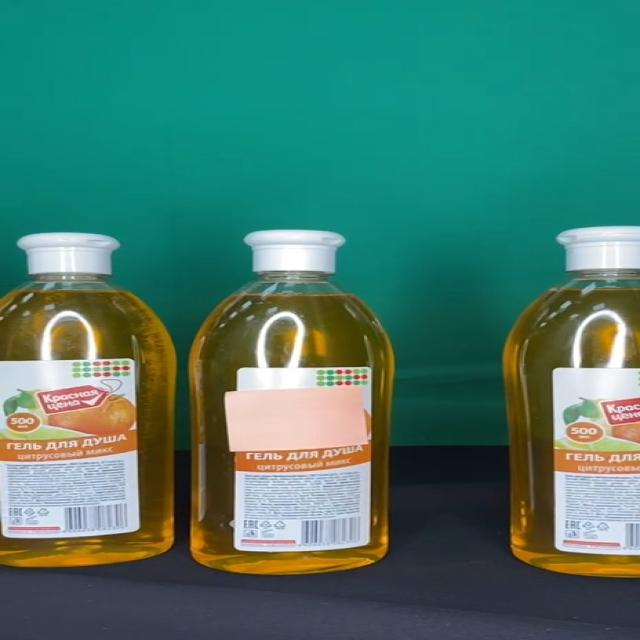Bottle: (191, 228, 394, 574), (0, 232, 176, 565)
Cap: (245, 230, 347, 273), (16, 232, 120, 274)
